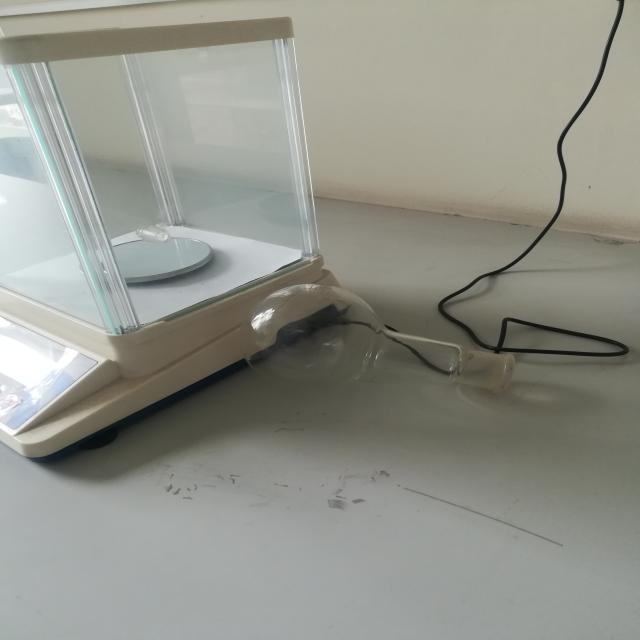Round_Bottom_Flask_Borosilicate_Glass_1_Neck: (205, 228, 569, 443)
